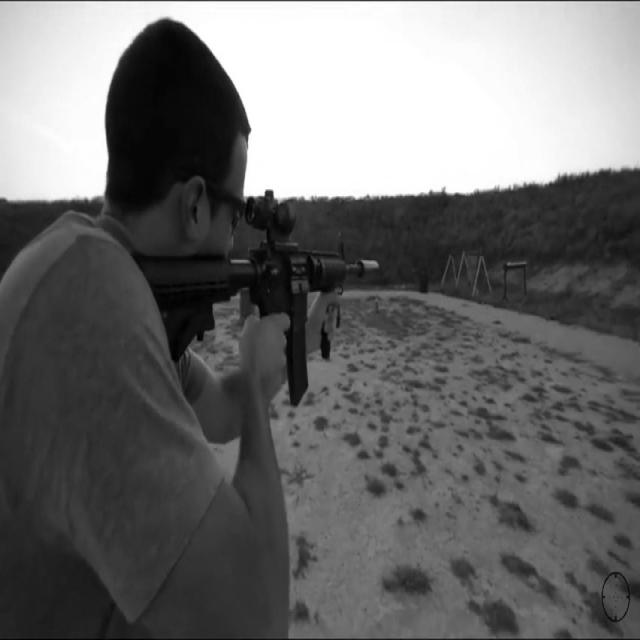Sniper: (97, 138, 443, 503)
